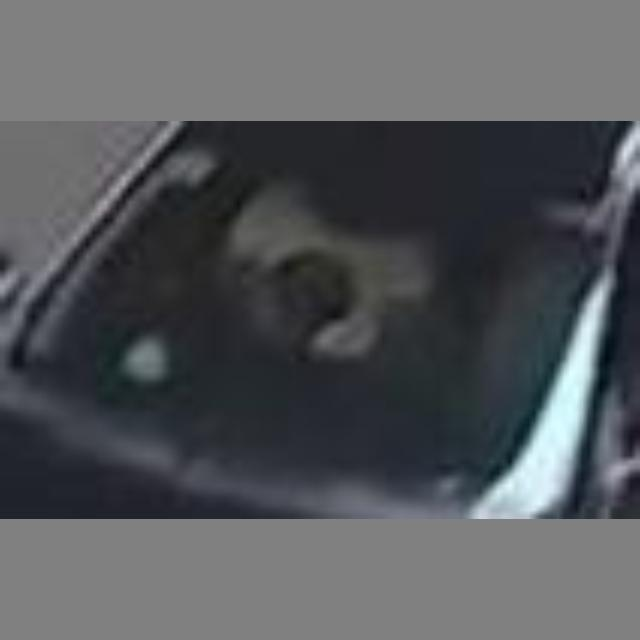tidak-pakai: (211, 145, 429, 393)
